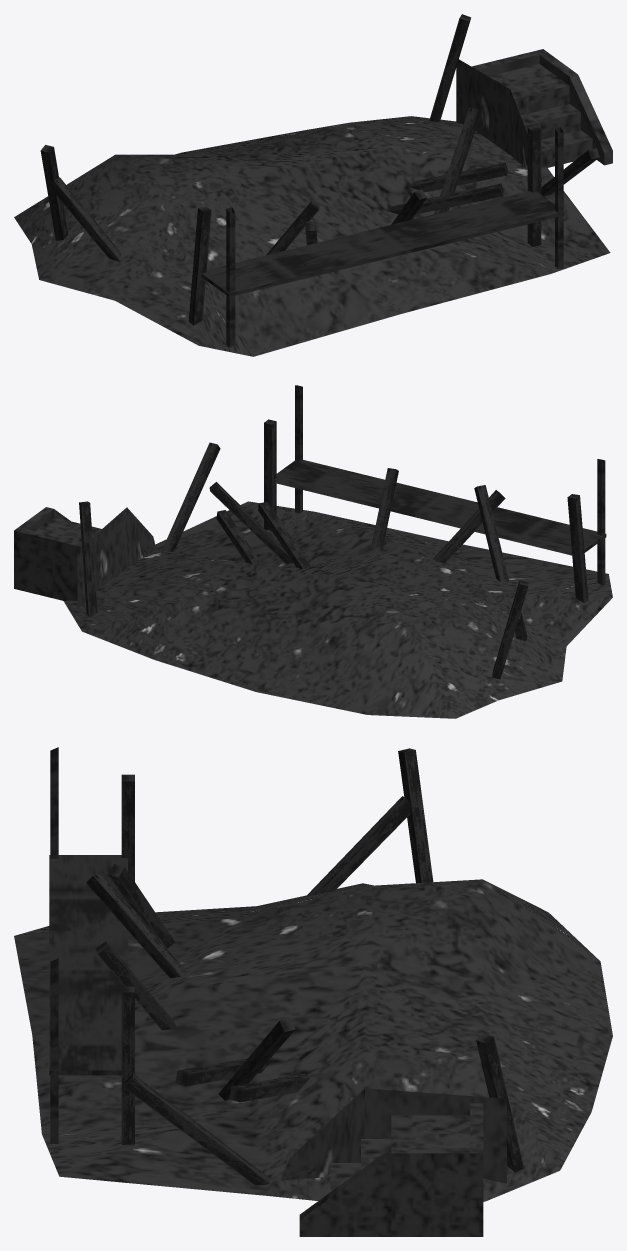
Rendered from MedievalHouse_003_destroyed_001.dae.
The picture shows the model from 3 angles, top to bottom: view 1: azimuth 30°, elevation 25°; view 2: azimuth 150°, elevation 25°; view 3: azimuth 270°, elevation 25°; orthographic projection. The views are drawn at different scales.
Parts seen in each view (by area): view 1: MedievalHouse_003_destroyed_001; view 2: MedievalHouse_003_destroyed_001; view 3: MedievalHouse_003_destroyed_001.
Part boxes in pixels (left/top/right/bottom): MedievalHouse_003_destroyed_001: left=14, top=14, right=612, bottom=356; MedievalHouse_003_destroyed_001: left=14, top=385, right=612, bottom=718; MedievalHouse_003_destroyed_001: left=14, top=747, right=612, bottom=1236.
Bounding box in the file's own units: 63.61 × 45.54 × 15.3.
Materials: 1 (1 with a texture image).
